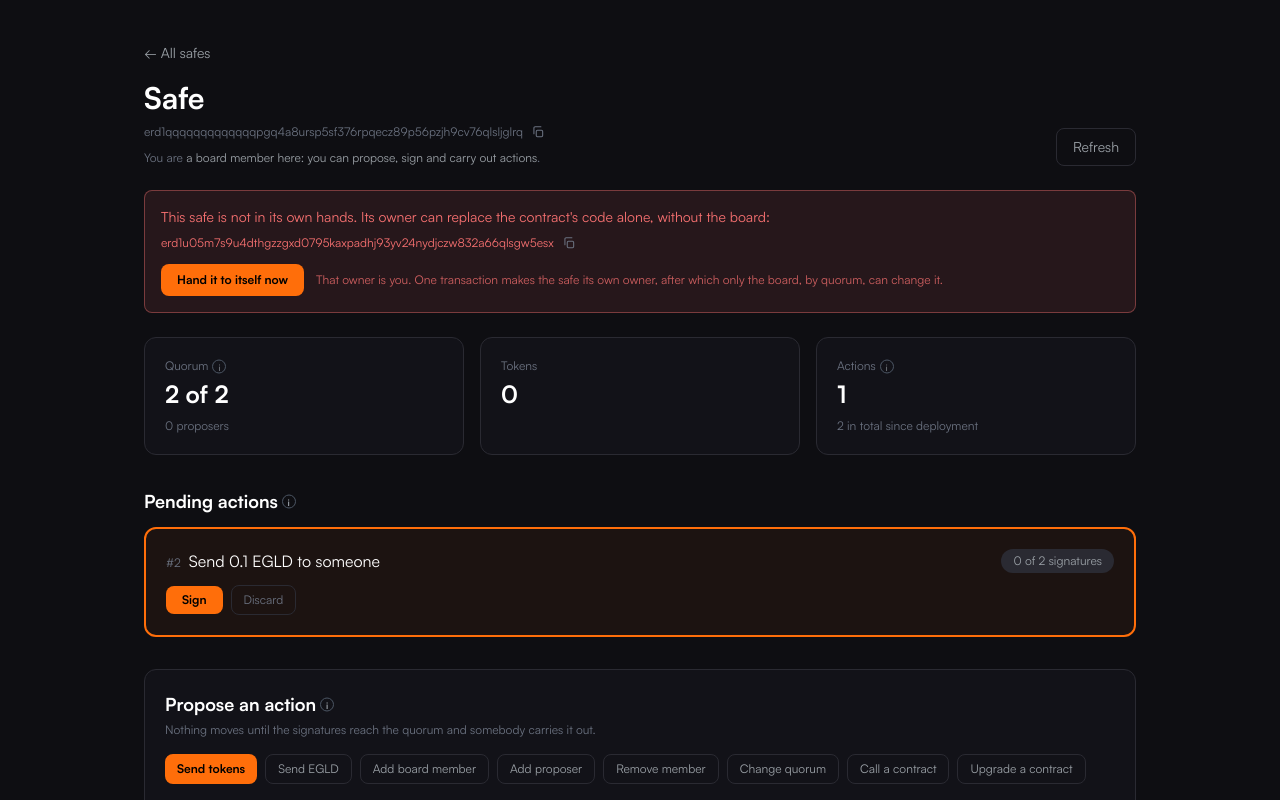
the abandoned handover, answered late, does not release a Sign opened after it
Check: the text "Send 0.1 EGLD to someone" is shown, box [189, 551, 380, 571]
Click the button "Hand it to itself now": x=232, y=280 [161, 264, 304, 296]
Wait 25000 ms
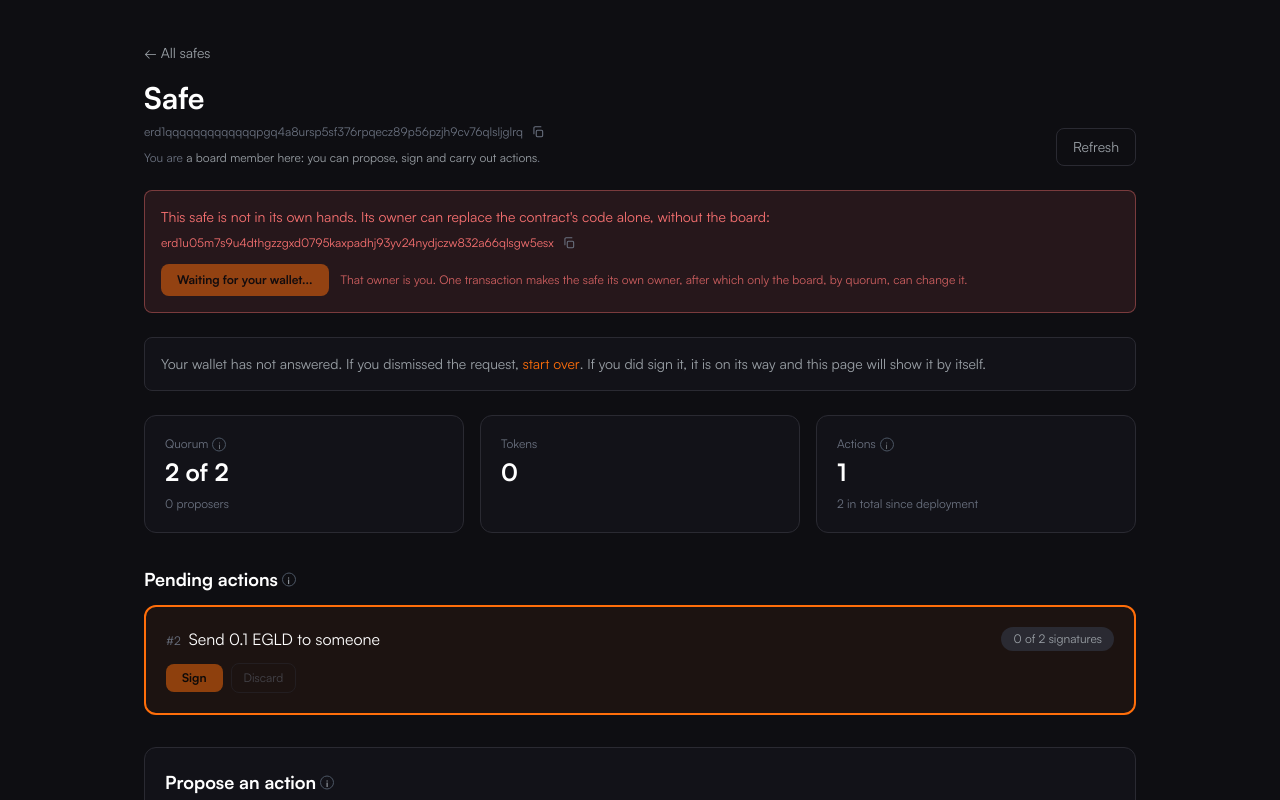
Click the button "start over": x=551, y=364 [523, 354, 580, 374]
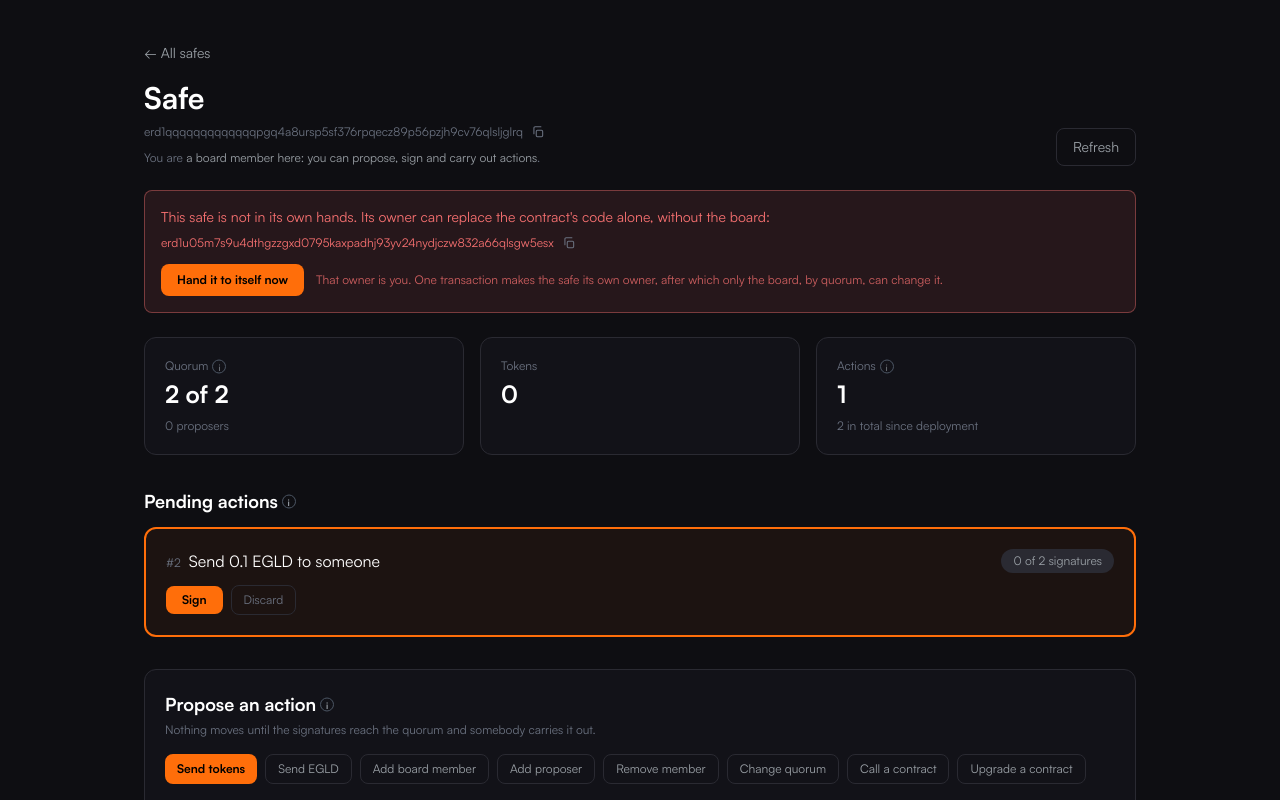
Click the button "Sign": x=194, y=600 [166, 586, 222, 614]
Wait 100 ms
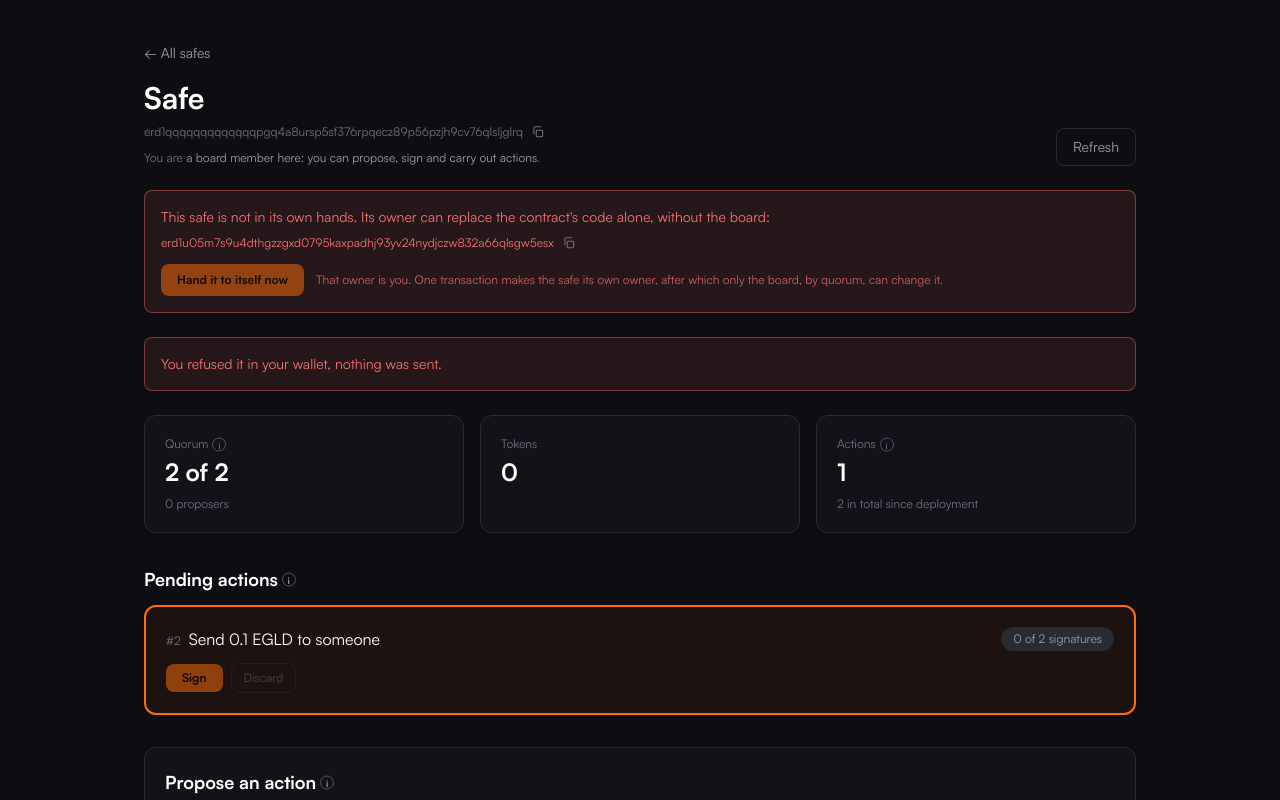
Check: the button "Sign" is disabled, box [166, 664, 222, 692]
